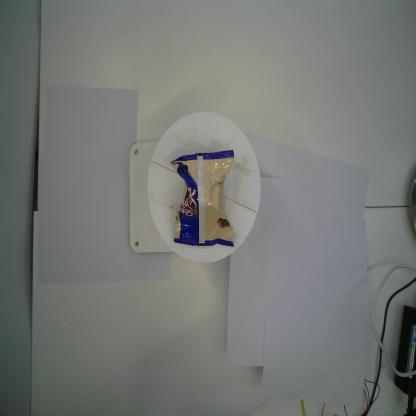Dessert: (168, 148, 238, 250)
